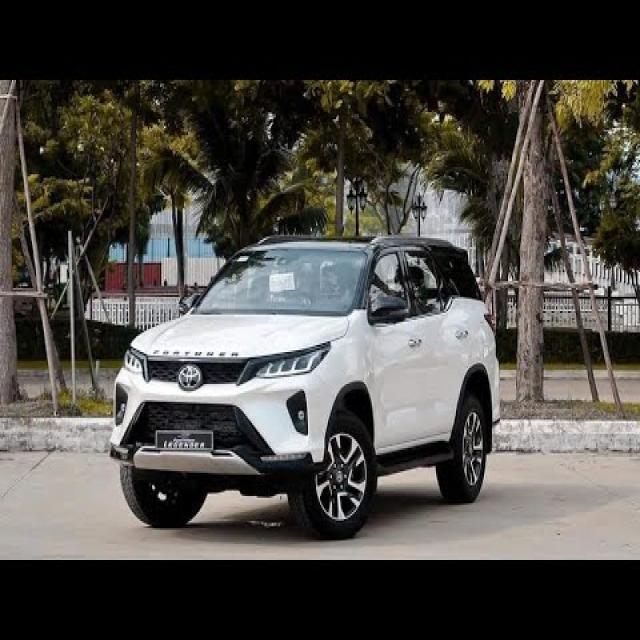light_vehicle: (108, 234, 503, 540)
